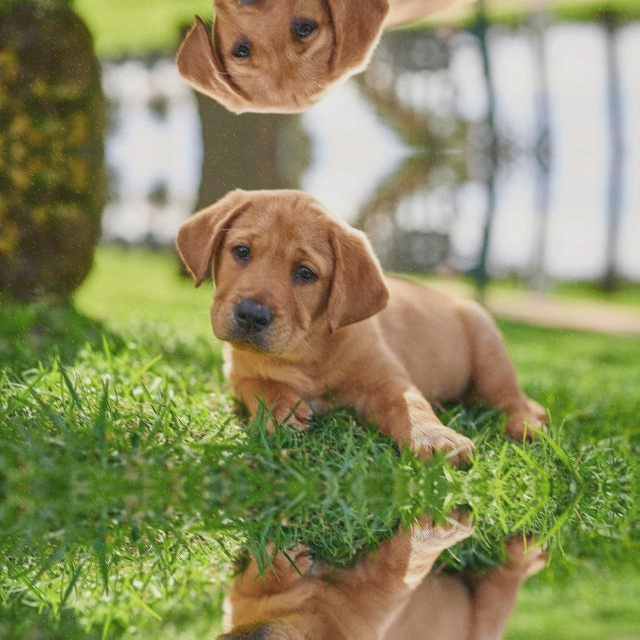dog: (179, 175, 565, 460), (179, 0, 565, 128), (179, 515, 565, 640)
